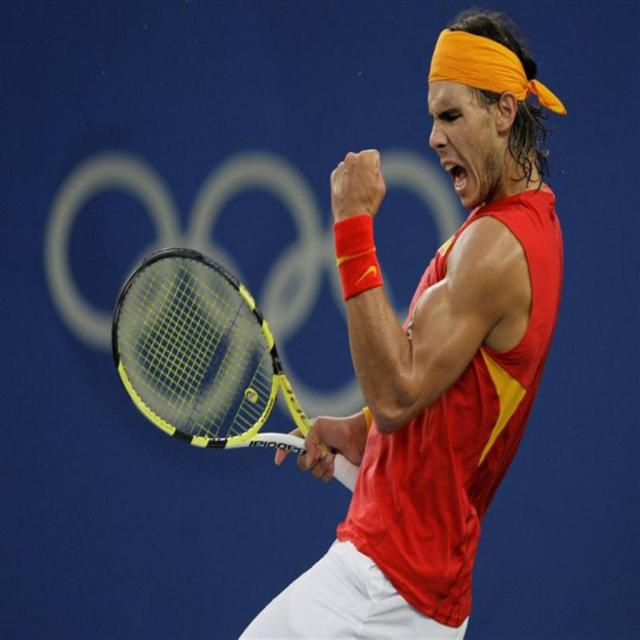Face: (416, 59, 507, 235)
